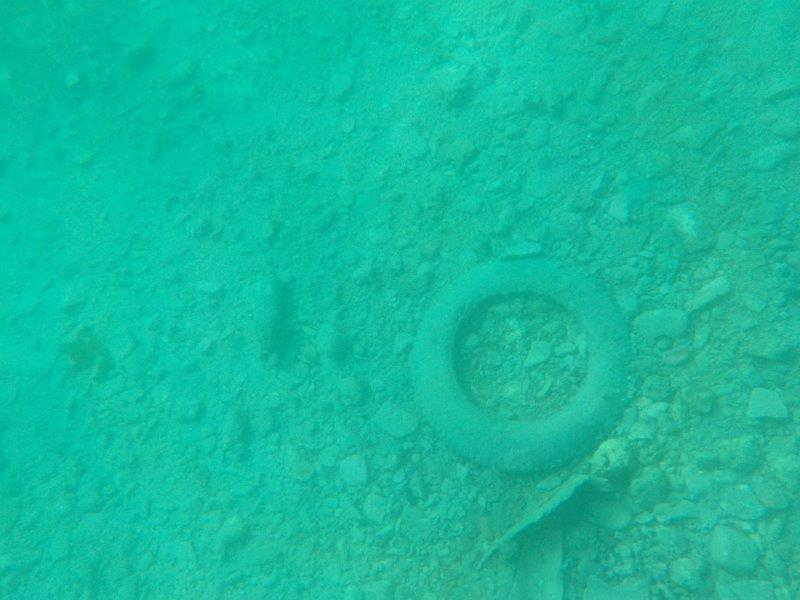bottle: (237, 256, 292, 371)
tire: (407, 250, 641, 476)
